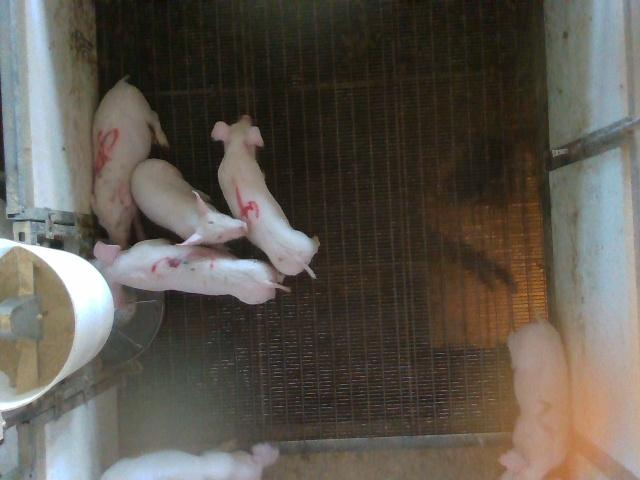pig-2: (500, 321, 570, 479)
pig-3: (94, 239, 289, 308)
pig-4: (211, 115, 319, 277)
pig-5: (91, 78, 168, 247)
